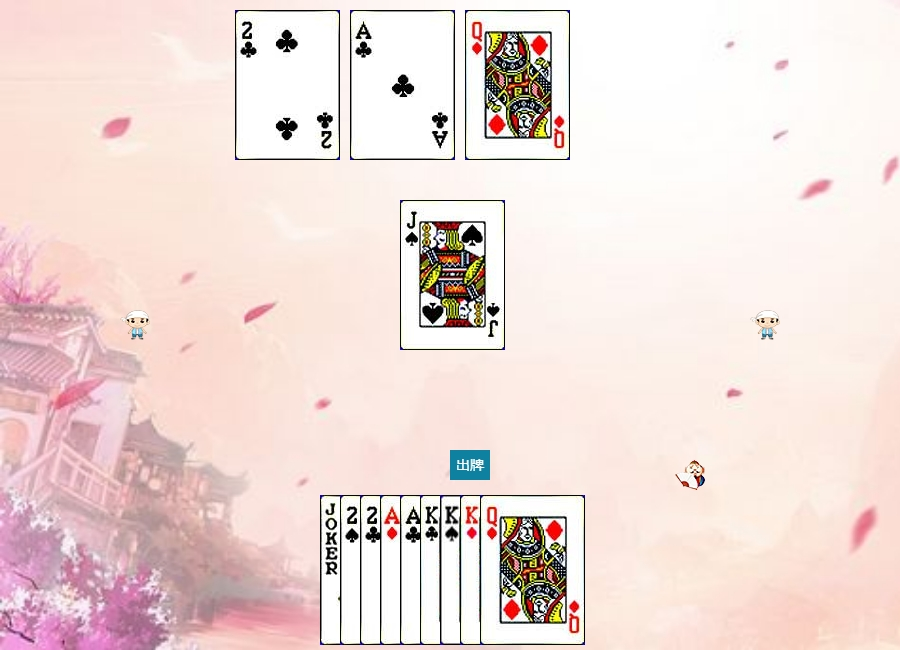11~4: (400, 200, 505, 350)
12~1: (465, 10, 570, 160), (480, 495, 585, 645)
13~1: (460, 495, 565, 645)
13~2: (420, 495, 525, 645)
13~4: (440, 495, 545, 645)
14~1: (380, 495, 485, 645)
14~2: (350, 10, 455, 160), (400, 495, 505, 645)
15~2: (235, 10, 340, 160), (360, 495, 465, 645)
15~4: (340, 495, 445, 645)
17~3: (320, 495, 425, 645)
